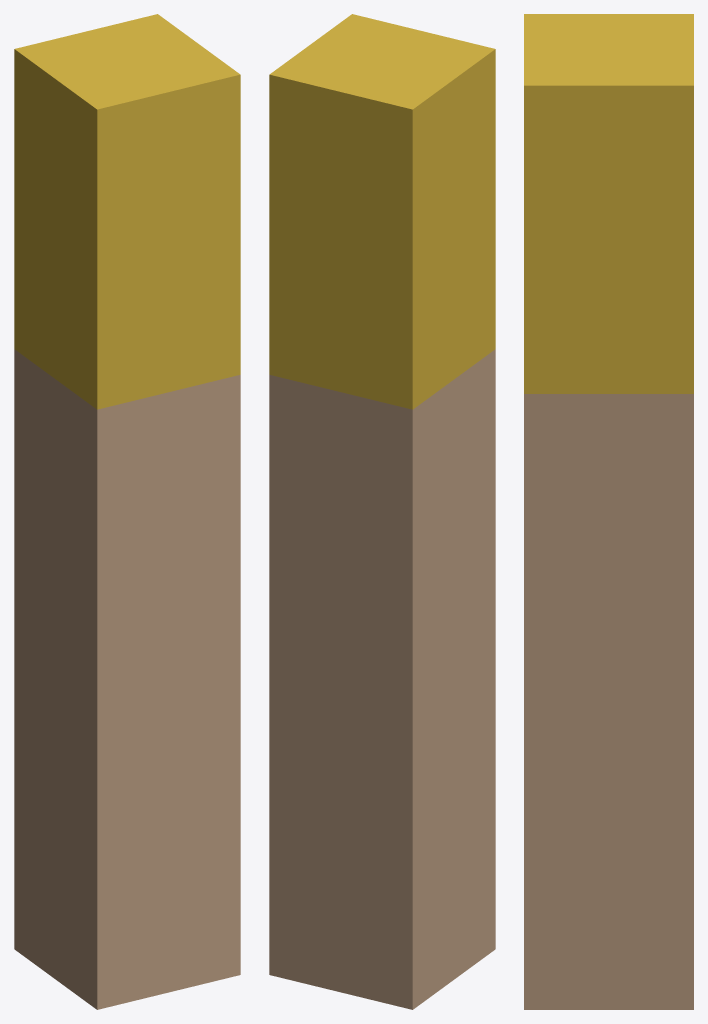
The model's file is orc-25-right_hand_idle.obj.
3 renders of one model, left to right at view 1: azimuth 30°, elevation 25°; view 2: azimuth 150°, elevation 25°; view 3: azimuth 270°, elevation 25°, orthographic. The views are drawn at different scales.
Visible parts, largest first — view 1: right_hand_idle; view 2: right_hand_idle; view 3: right_hand_idle.
Part boxes in pixels (x1,y1,x2,y2): right_hand_idle: (14, 14, 240, 1009); right_hand_idle: (269, 14, 495, 1009); right_hand_idle: (524, 14, 693, 1009).
Size of the model in its own units: 0.1 by 0.6 by 0.1.
Materials: 1 (1 with a texture image).
